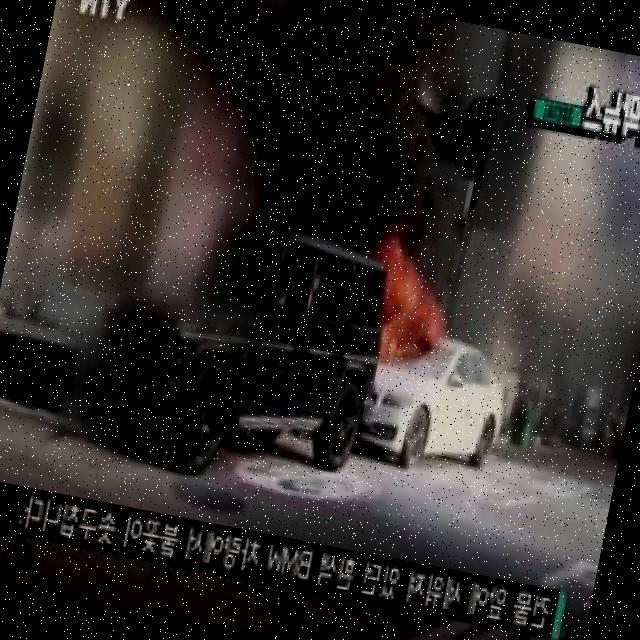Fire: (367, 261, 453, 376)
